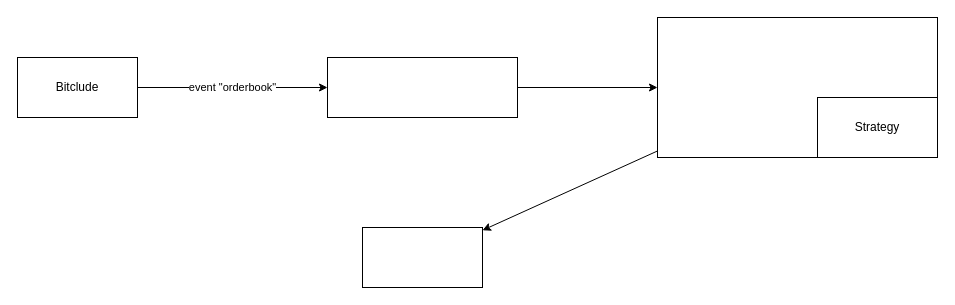
This 955x305 diagram has some shape labels left out. The shapes that lost their labels are listed below. From the top down, each one's box as (x1, y1, x2, y2) in pixels, then its label:
(326, 56, 518, 118): BitcludeWebsocketClient
(656, 16, 938, 158): StrategyExecutor
